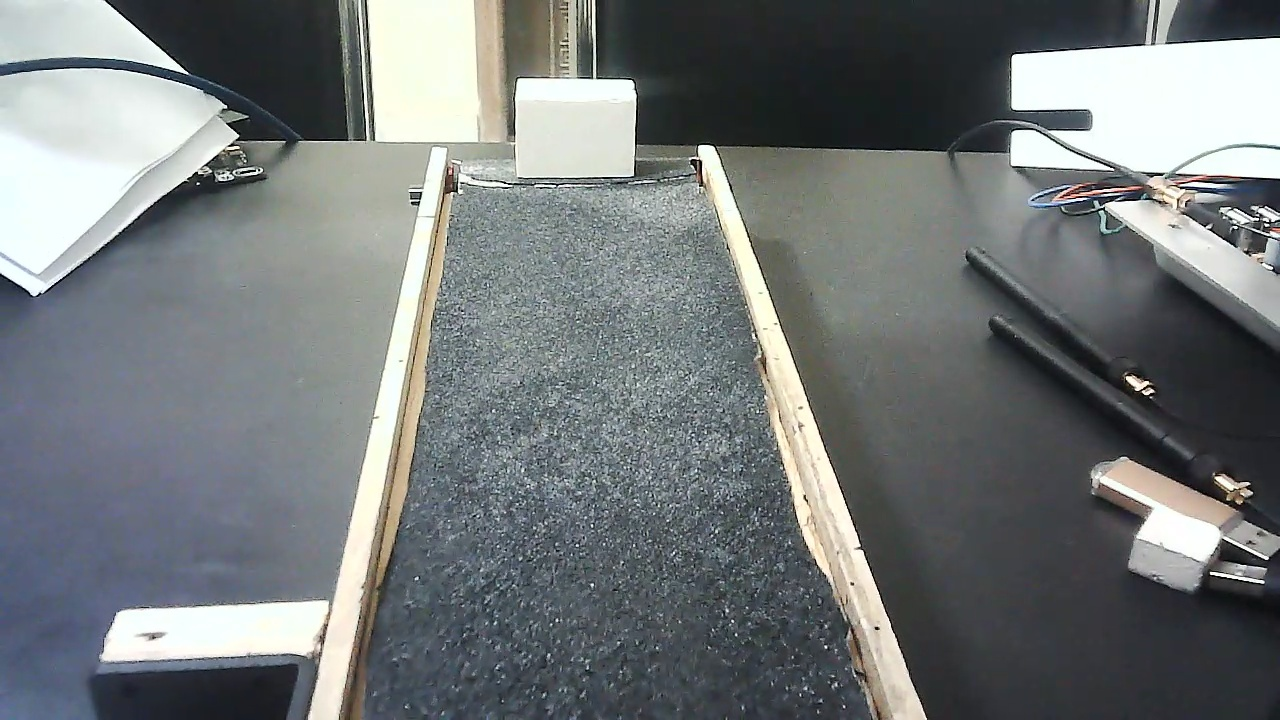BIG: (517, 67, 637, 187)
